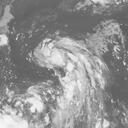cyclone: (26, 34, 103, 102)
